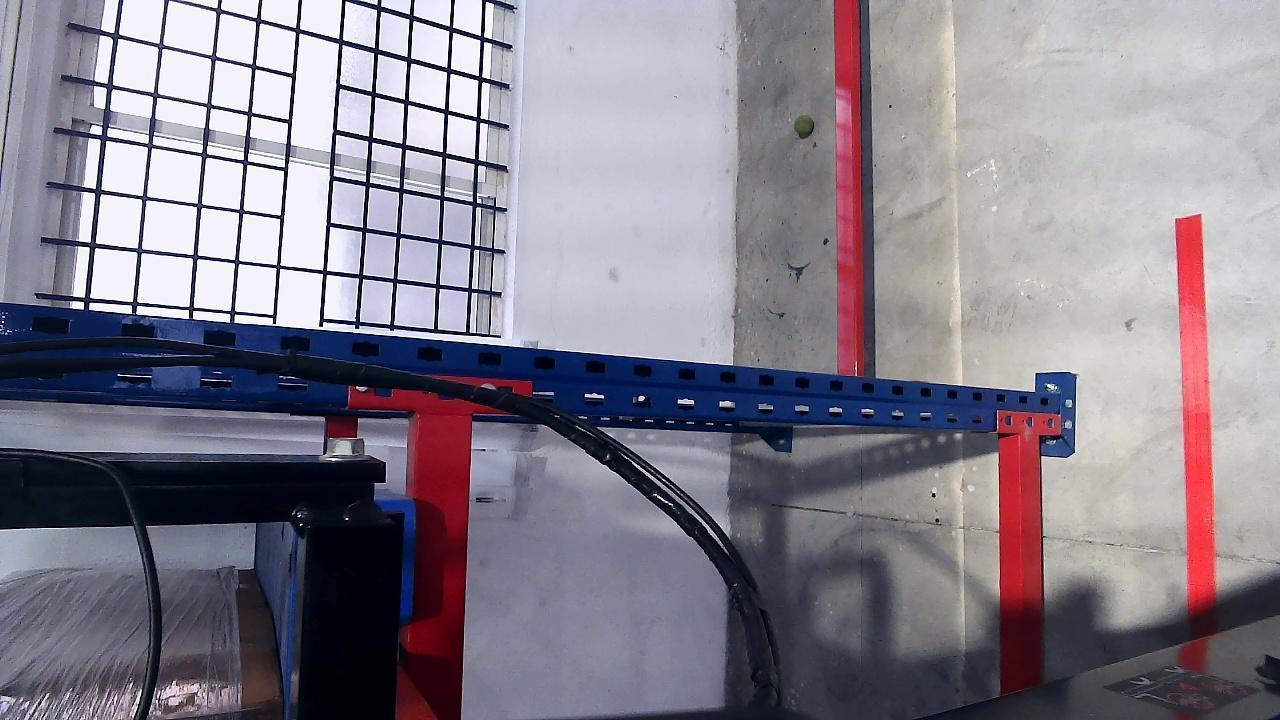red_line: (1174, 213, 1216, 607)
